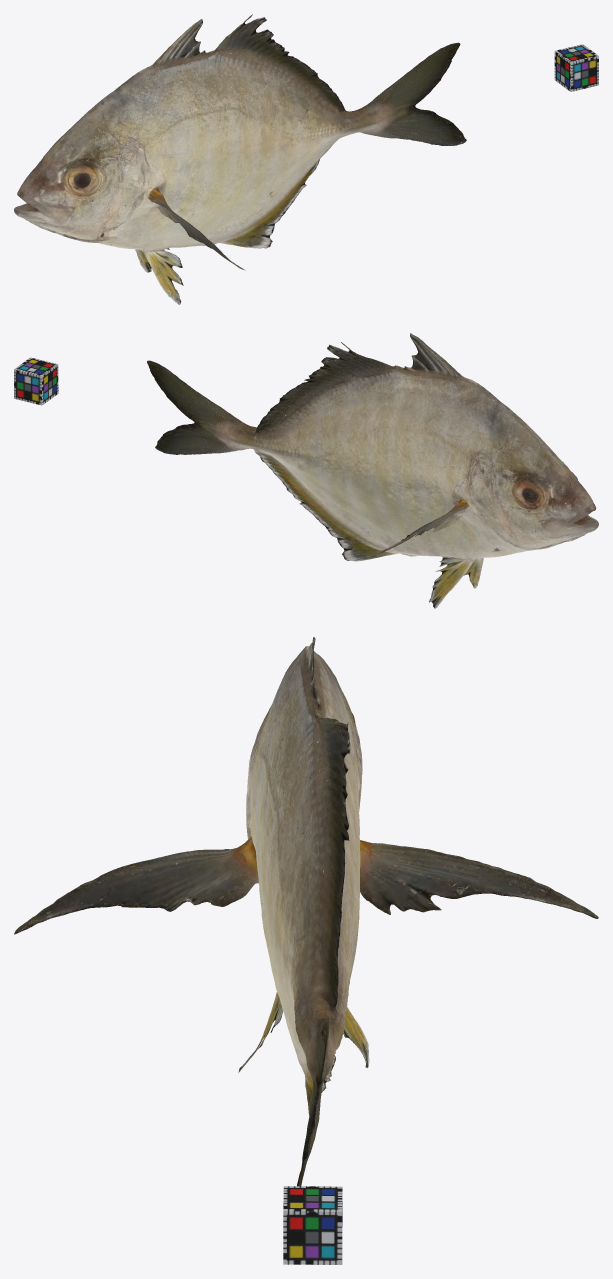
The model's file is scan_whitefintrev.glb.
3 views of the same model, one above another, from view 1: azimuth 30°, elevation 25°; view 2: azimuth 150°, elevation 25°; view 3: azimuth 270°, elevation 25° (orthographic). The views are drawn at different scales.
Visible parts, largest first — view 1: Object_6, Object_4; view 2: Object_6, Object_4; view 3: Object_6, Object_4.
Boxes of the visible parts, x1=… form: Object_6: x1=14, y1=14, x2=466, y2=304; Object_4: x1=554, y1=44, x2=598, y2=91; Object_6: x1=147, y1=333, x2=598, y2=608; Object_4: x1=14, y1=357, x2=58, y2=405; Object_6: x1=14, y1=637, x2=598, y2=1186; Object_4: x1=283, y1=1186, x2=342, y2=1264.
Bounding box in the file's own units: 0.1987 × 0.0857 × 0.0962.
2 materials, 2 textured.
